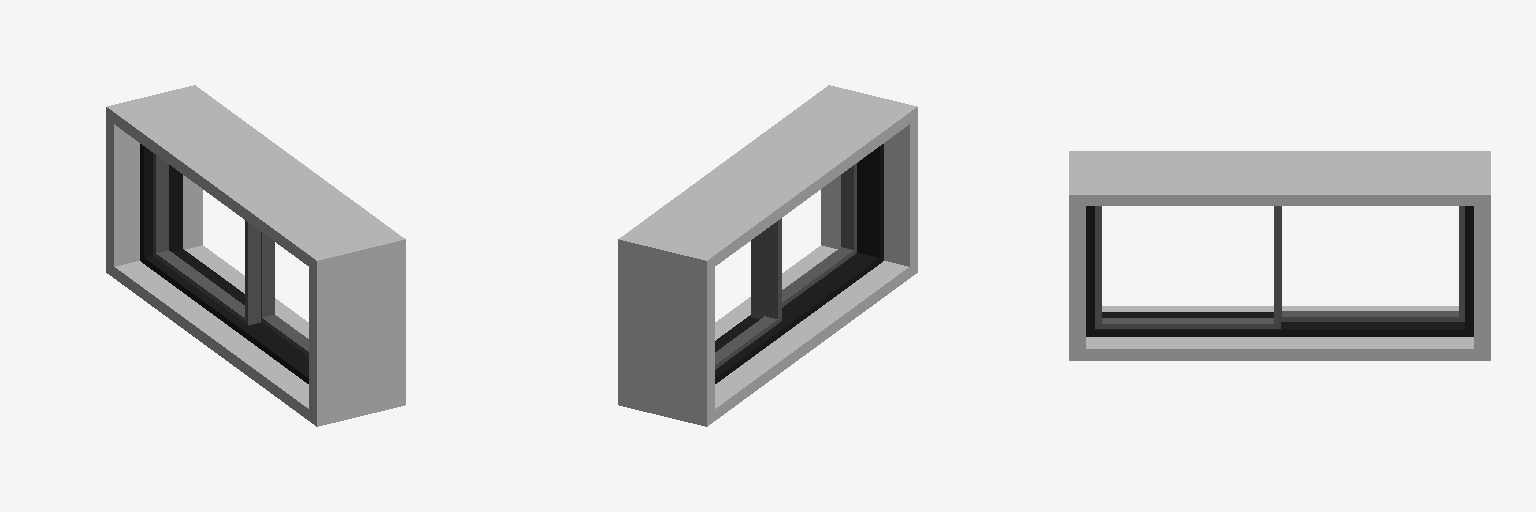
File: okno.obj
3 views of the same model, side by side, from view 1: azimuth 30°, elevation 25°; view 2: azimuth 150°, elevation 25°; view 3: azimuth 270°, elevation 25° (orthographic).
Parts seen in each view (by area): view 1: Kostka, Kostka.001, Kostka.004; view 2: Kostka, Kostka.001, Kostka.004; view 3: Kostka, Kostka.001, Kostka.004.
Boxes of the visible parts, box(x1,y1,x2,y2) form: Kostka: box(106, 85, 405, 426); Kostka.001: box(140, 144, 308, 383); Kostka.004: box(153, 153, 308, 356); Kostka: box(618, 85, 917, 426); Kostka.001: box(715, 144, 883, 383); Kostka.004: box(715, 163, 856, 369); Kostka: box(1069, 151, 1490, 360); Kostka.001: box(1086, 206, 1473, 336); Kostka.004: box(1095, 206, 1464, 328).
Size of the model in its own units: 0.2816 by 0.504 by 1.16.